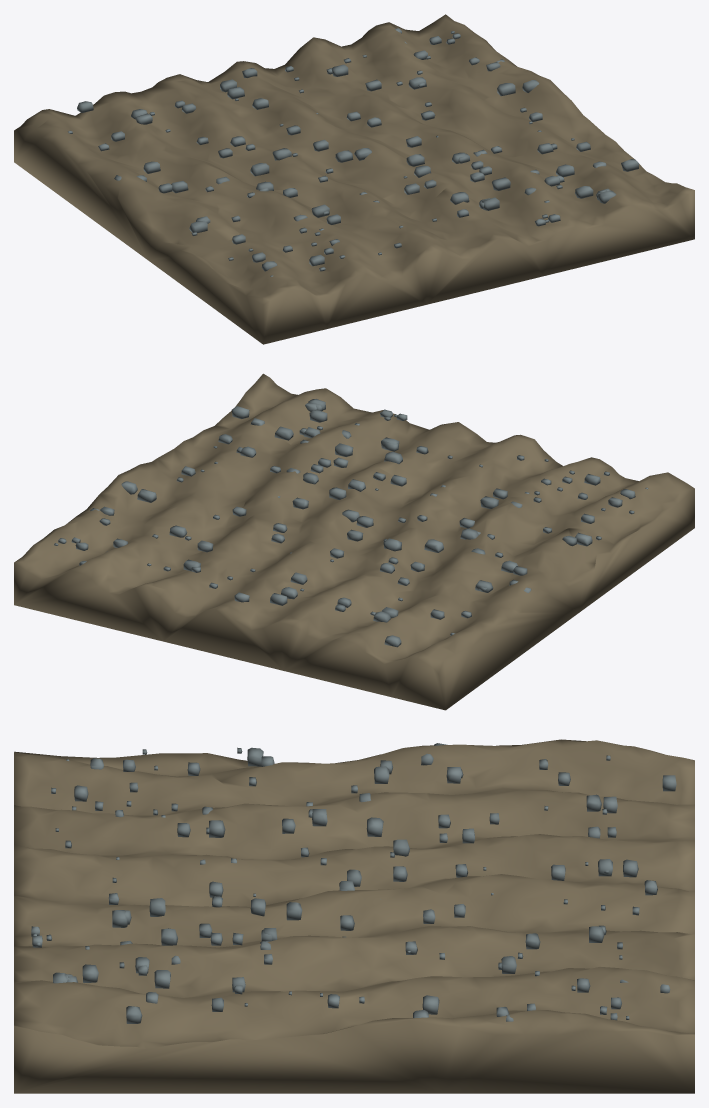
File: sand-pebble-bed-v2.lod1.glb
The picture shows the model from 3 angles, top to bottom: view 1: azimuth 30°, elevation 25°; view 2: azimuth 150°, elevation 25°; view 3: azimuth 270°, elevation 25°; orthographic projection. The views are drawn at different scales.
Visible parts, largest first — view 1: sand-pebble-bed-v2; view 2: sand-pebble-bed-v2; view 3: sand-pebble-bed-v2.
Part boxes in pixels (x1=…): sand-pebble-bed-v2: x1=14, y1=14, x2=694, y2=344; sand-pebble-bed-v2: x1=14, y1=373, x2=694, y2=710; sand-pebble-bed-v2: x1=14, y1=739, x2=694, y2=1093.
Size of the model in its own units: 2 by 0.2374 by 2.
